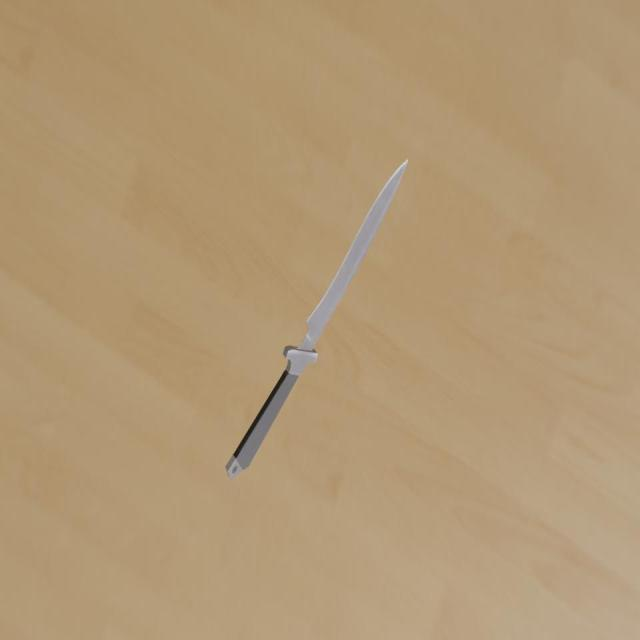knife: (226, 370, 299, 479)
